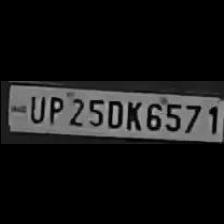1: (200, 100, 220, 134)
2: (64, 94, 84, 126)
5: (162, 99, 182, 131), (84, 96, 104, 127)
6: (142, 98, 162, 130)
7: (180, 100, 200, 132)
D: (104, 96, 122, 128)
K: (122, 98, 142, 130)
P: (43, 92, 62, 124)
U: (24, 91, 44, 123)
